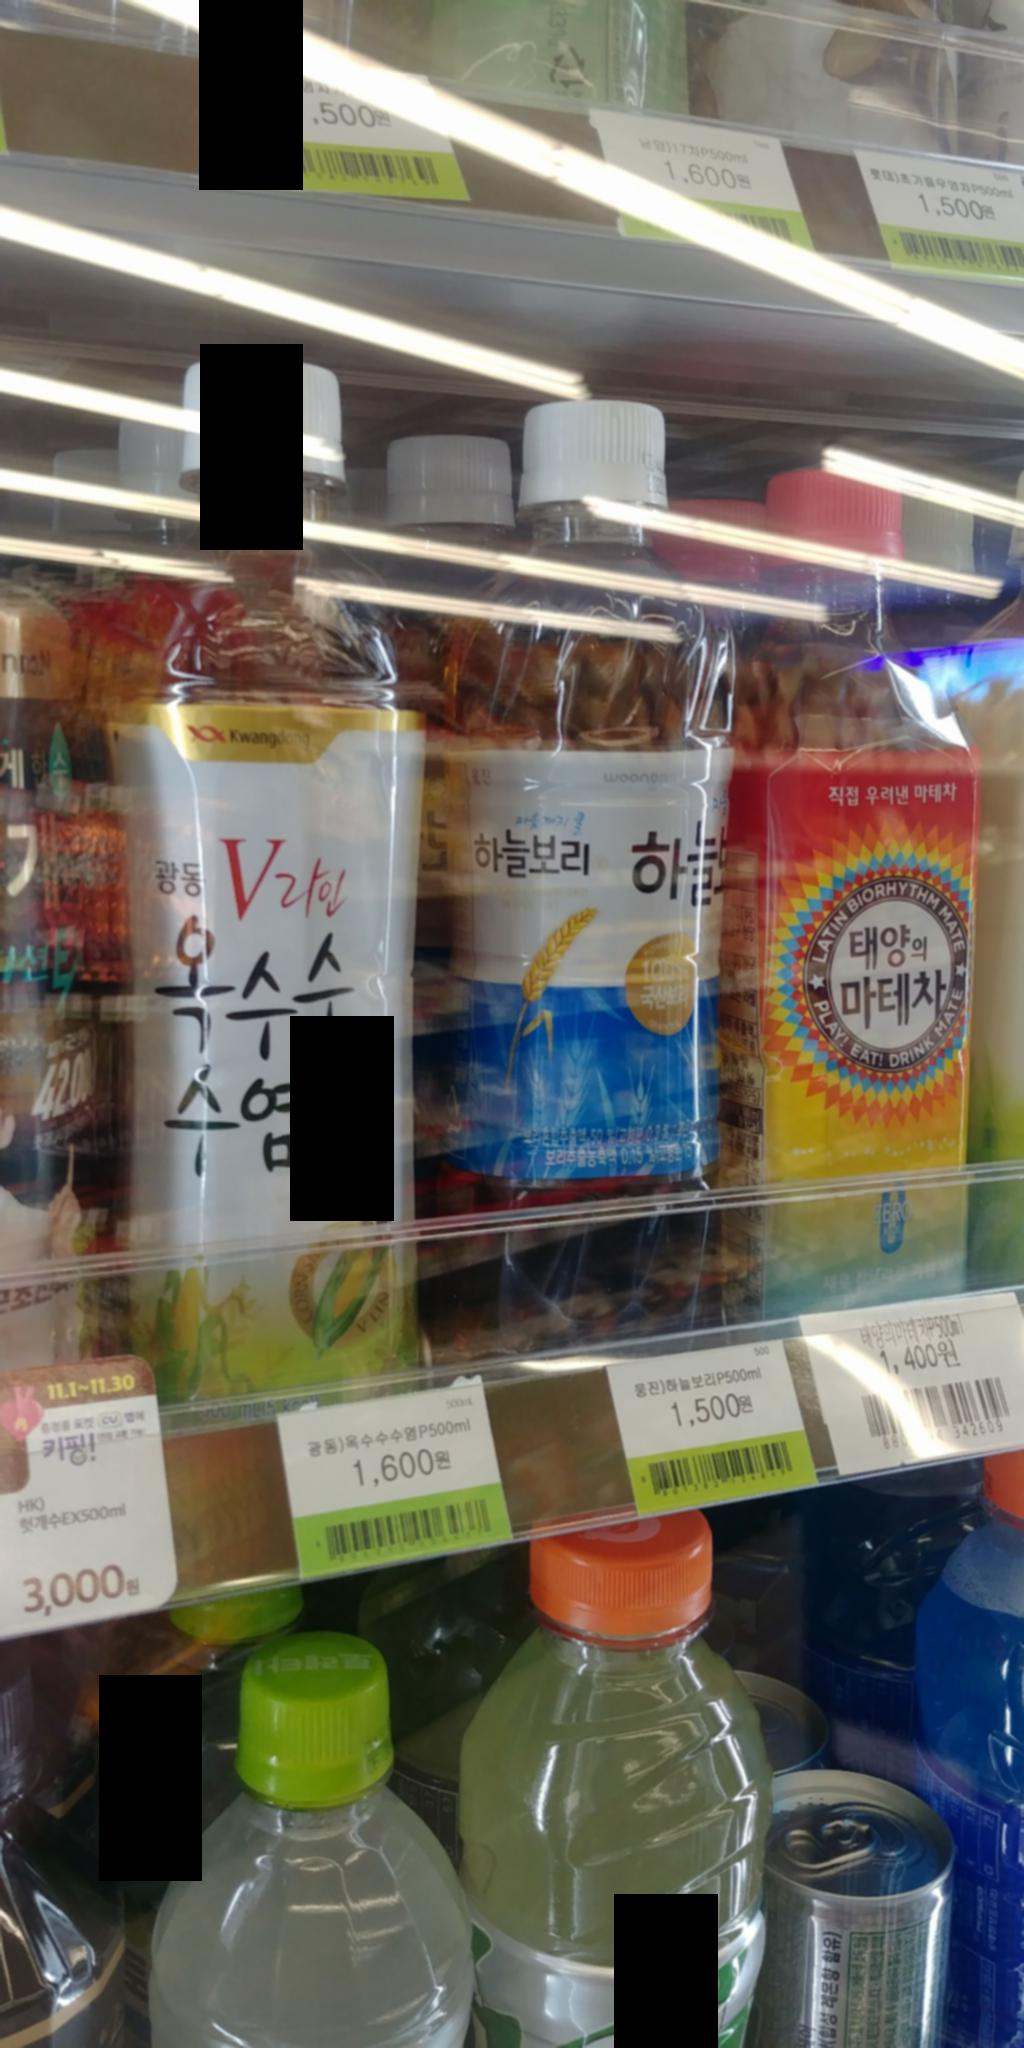haneulbori: (434, 404, 733, 1339)
oksususuyeomcha: (82, 340, 458, 1417)
